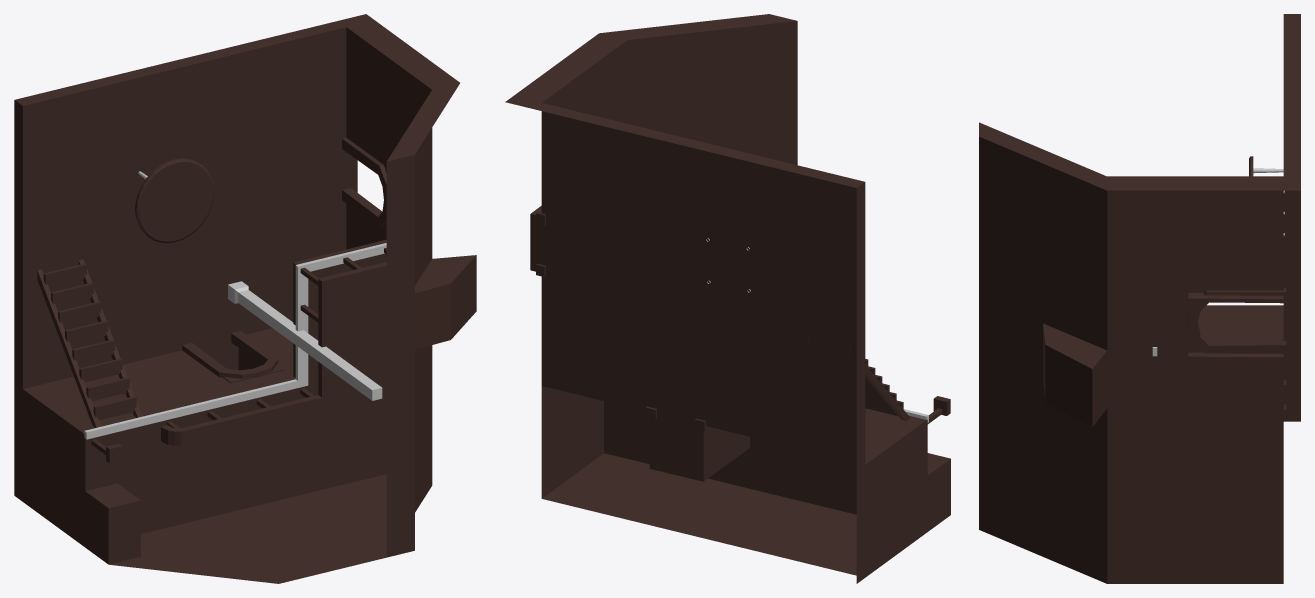
Rendered from cottage_1.obj.
3 views of the same model, side by side, from view 1: azimuth 30°, elevation 25°; view 2: azimuth 150°, elevation 25°; view 3: azimuth 270°, elevation 25° (orthographic). The views are drawn at different scales.
Visible parts, largest first — view 1: Cube.001, Cube.006, Plane, Cube.004_Cube.010, Cube.007_Cube.008, Cube.005, Cube.002, Cube.003_Cube.002; view 2: Cube.001, Cube.006; view 3: Cube.001, Cube.003_Cube.002.
Part boxes in pixels (left/top/right/bottom): Cube.001: left=14, top=14, right=476, bottom=583; Cube.006: left=37, top=259, right=142, bottom=427; Plane: left=91, top=248, right=386, bottom=463; Cube.004_Cube.010: left=135, top=158, right=214, bottom=243; Cube.007_Cube.008: left=84, top=243, right=386, bottom=439; Cube.005: left=228, top=281, right=382, bottom=400; Cube.002: left=182, top=331, right=284, bottom=383; Cube.003_Cube.002: left=342, top=137, right=386, bottom=227; Cube.001: left=505, top=14, right=950, bottom=583; Cube.006: left=804, top=335, right=910, bottom=420; Cube.001: left=979, top=14, right=1300, bottom=583; Cube.003_Cube.002: left=1187, top=288, right=1286, bottom=355.
Size of the model in its own units: 6.69 by 7.02 by 5.02.
